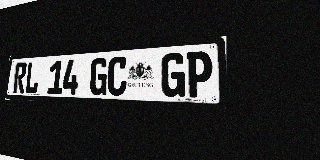1: (48, 60, 64, 94)
4: (62, 59, 80, 94)
C: (107, 56, 128, 96)
G: (161, 52, 186, 97), (89, 57, 109, 95)
L: (25, 61, 40, 94)
P: (186, 50, 212, 98)
R: (13, 62, 27, 93)
